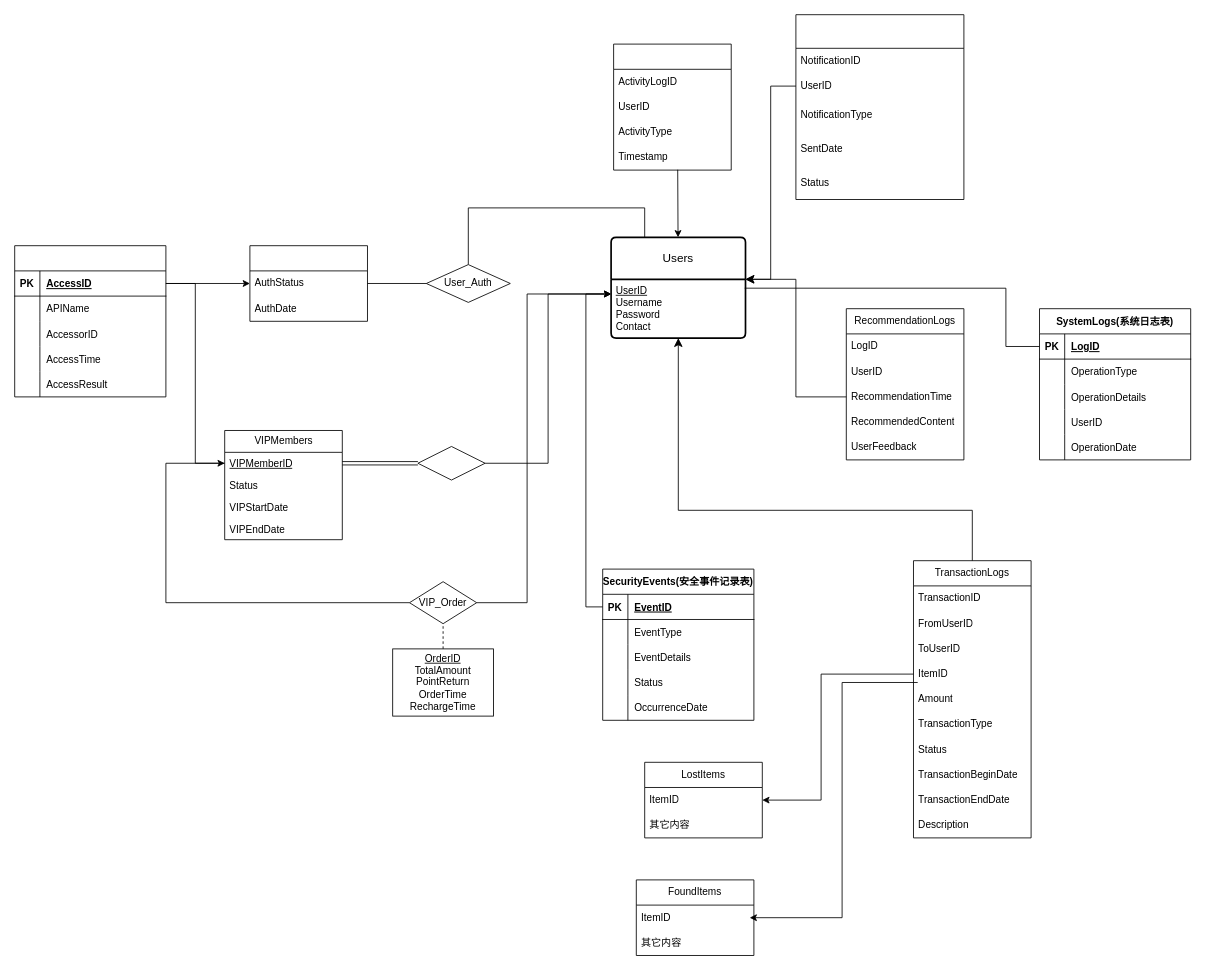
Some shapes in this 1205 by 970 pixel diagram are drawn without their labels. Each missing label, with the box of its shape:
APIAccessLogs(API访问日志表): (14, 245, 166, 397)
AuthInfo: (249, 245, 368, 321)
NotificationLogs: (795, 14, 964, 200)
User_VIP: (417, 446, 485, 480)
UserActivityLogs: (613, 43, 731, 170)
